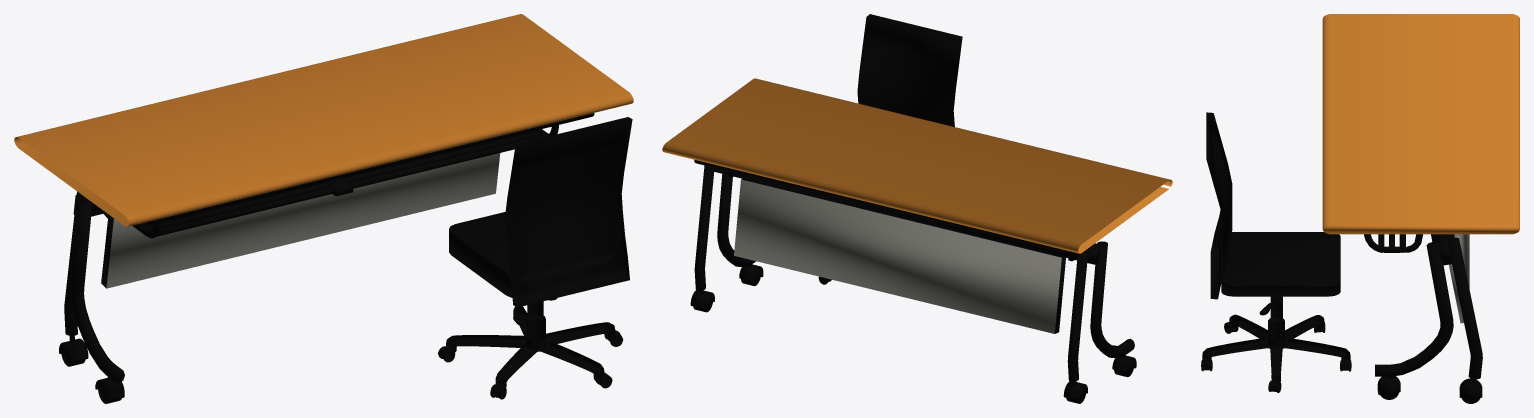
Rendered from CHaIR_and_table.glb.
3 renders of one model, left to right at view 1: azimuth 30°, elevation 25°; view 2: azimuth 150°, elevation 25°; view 3: azimuth 270°, elevation 25°, orthographic. The views are drawn at different scales.
Visible parts, largest first — view 1: 圓形.011, 立方體.008; view 2: 圓形.011, 立方體.008; view 3: 圓形.011, 立方體.008.
Part boxes in pixels (box(x1,y1,x2,y2)): 圓形.011: box(14, 14, 633, 403); 立方體.008: box(438, 117, 632, 399); 圓形.011: box(662, 78, 1172, 403); 立方體.008: box(818, 14, 962, 284); 圓形.011: box(1322, 14, 1519, 403); 立方體.008: box(1201, 112, 1351, 392).
Bounding box in the file's own units: 104 × 51.23 × 66.35.
